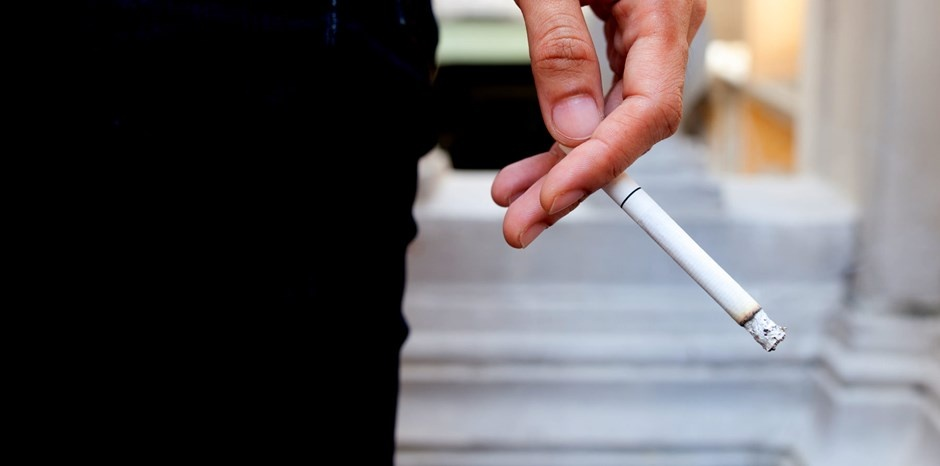sigaretta: (563, 140, 782, 345)
